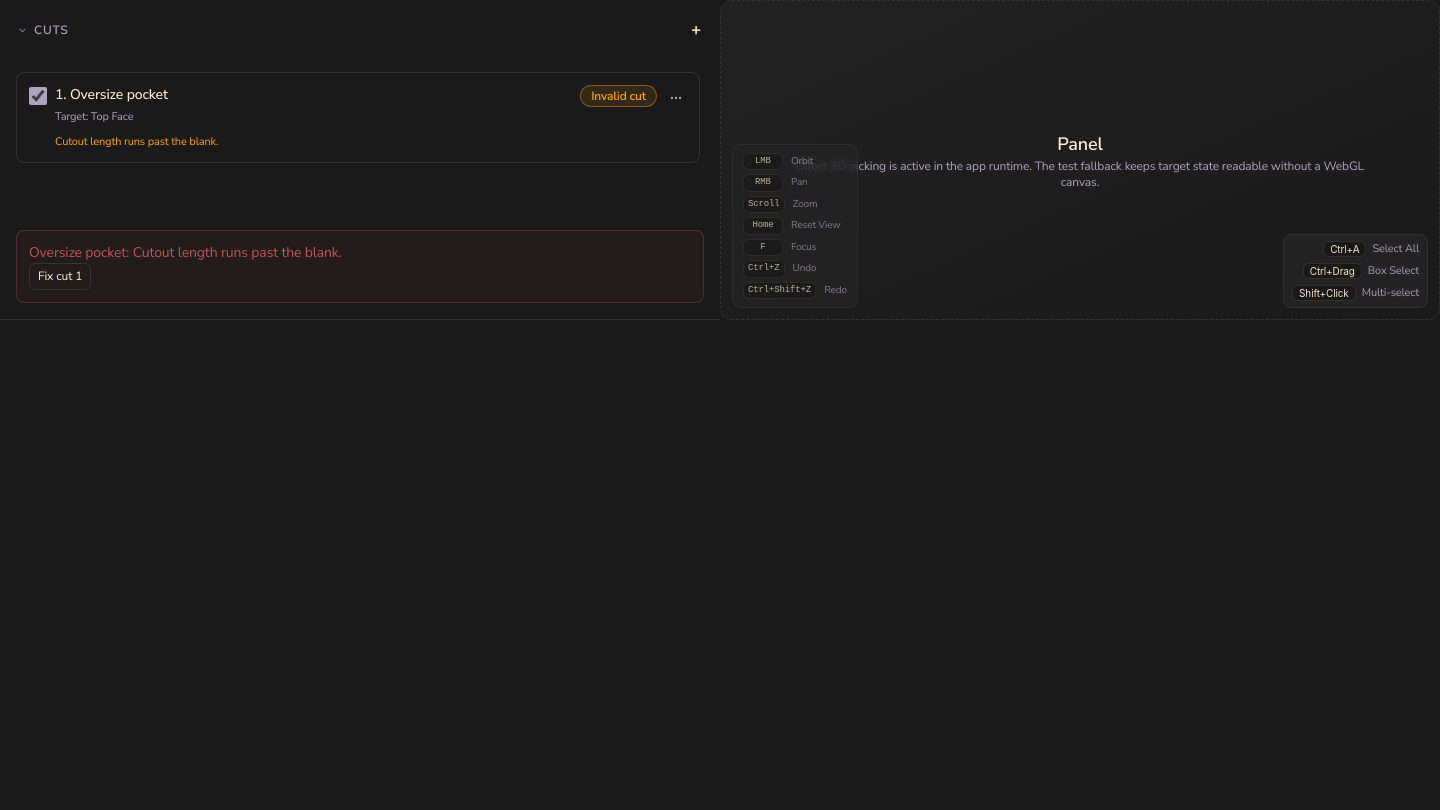
Test: PartCutsWorkspace › UX identifies an invalid operation and opens it directly from the save explanation
Expected: the message reads "Oversize pocket: Cutout length runs past the blank. Fix cut 1", [16,230,704,303]
Click the button "Fix cut 1" at point(60, 276), box [29,263,91,290]
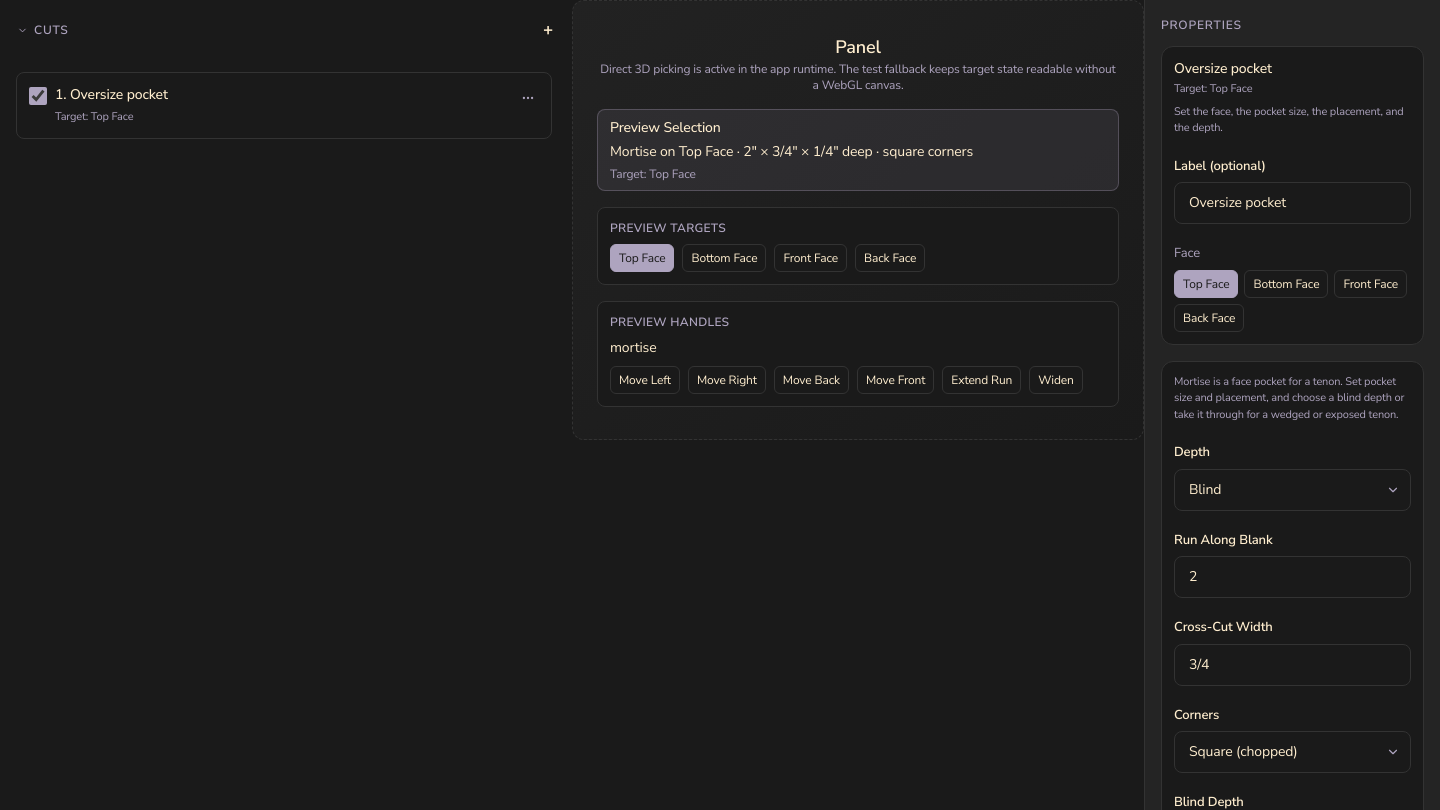
Expected: the field labelled "Label (optional)" holds "Oversize pocket", [1174,182,1411,224]
